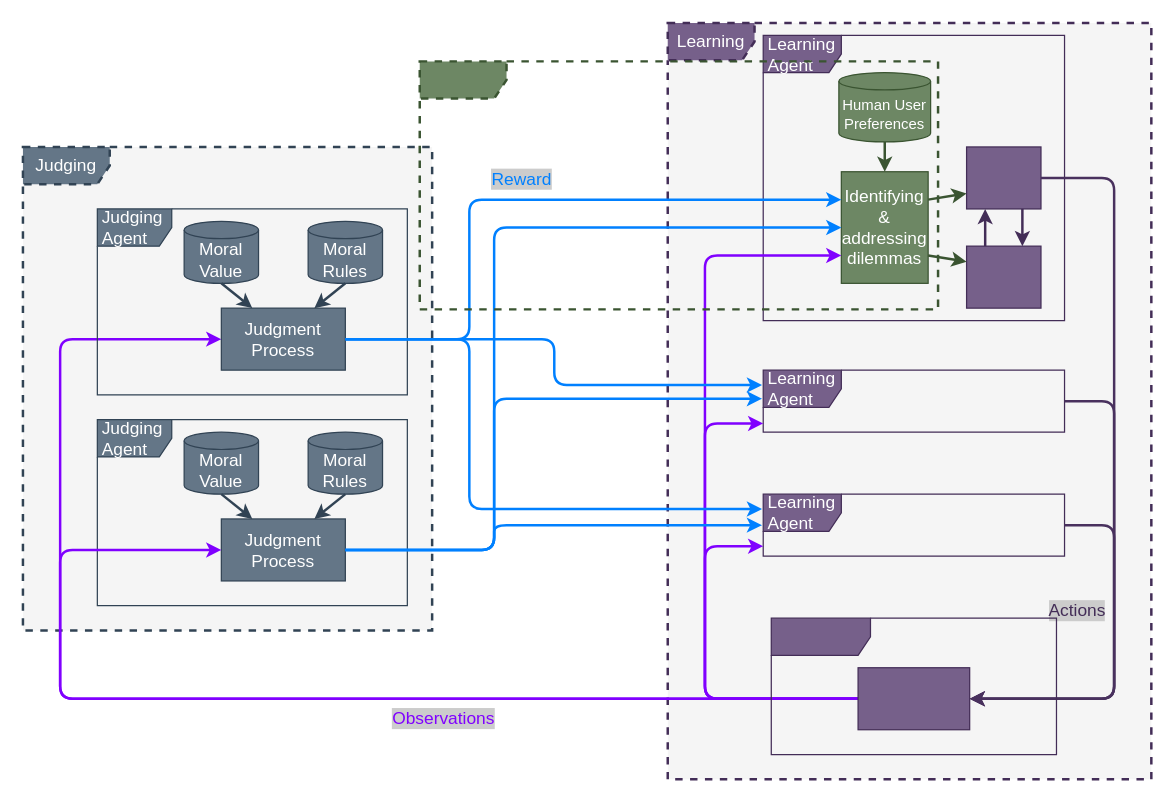
The diagram is 1173 pixels wide and 801 high, and some of its shapes have lost their labels. The shapes that lost their labels are listed below. From the top down, each one's box as (x1, y1, x2, y2) in pixels, then its label:
(418, 60, 939, 310): Dilemmas
(965, 146, 1041, 209): Decision Process
(965, 245, 1041, 308): Learning Process
(770, 617, 1056, 755): Environment
(857, 666, 970, 730): Compute Next State
